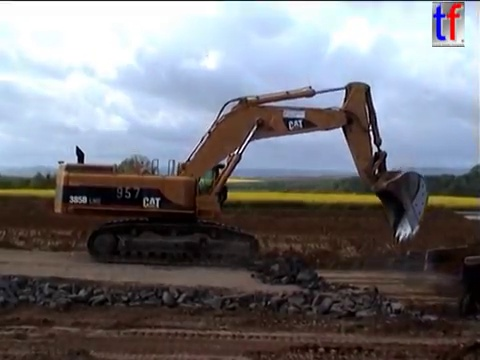excavator: (51, 80, 431, 270)
truck: (422, 241, 480, 327)
